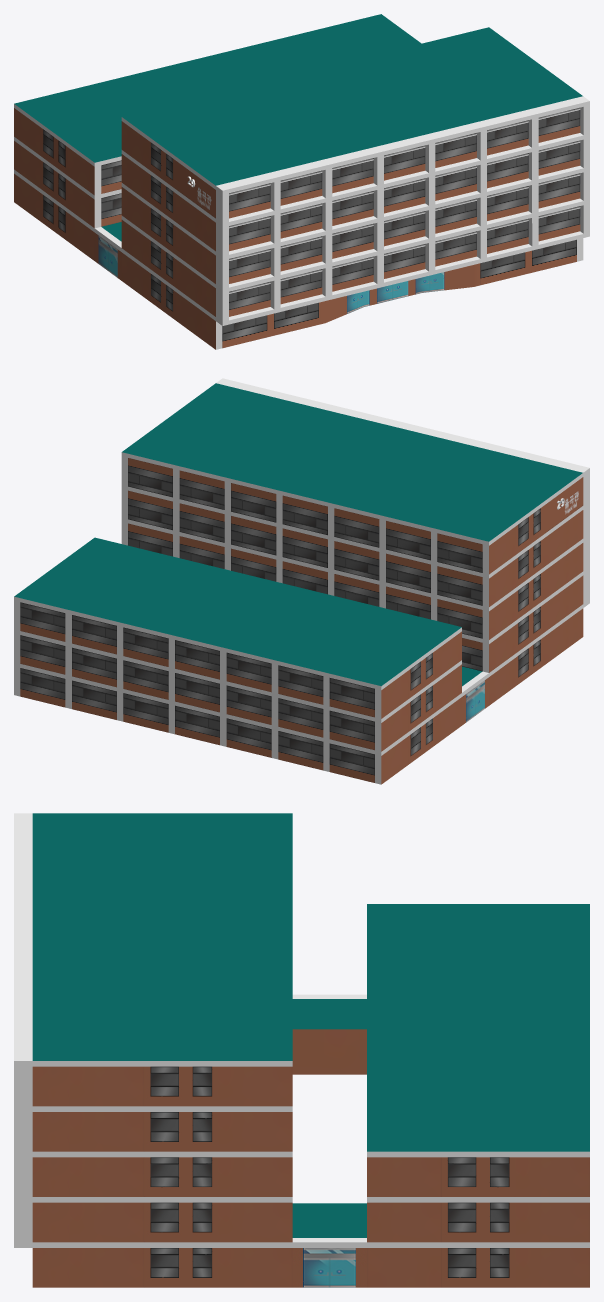
The model's file is building_yulgok.fbx.
3 views of the same model, one above another, from view 1: azimuth 30°, elevation 25°; view 2: azimuth 150°, elevation 25°; view 3: azimuth 270°, elevation 25° (orthographic). The views are drawn at different scales.
Visible parts, largest first — view 1: building_yulgok; view 2: building_yulgok; view 3: building_yulgok.
Part boxes in pixels (bbox=[...]): building_yulgok: bbox=[14, 14, 589, 349]; building_yulgok: bbox=[14, 378, 589, 784]; building_yulgok: bbox=[14, 813, 589, 1287].
Size of the model in its own units: 3.55 by 1.51 by 3.48.
Materials: 1 (1 with a texture image).
